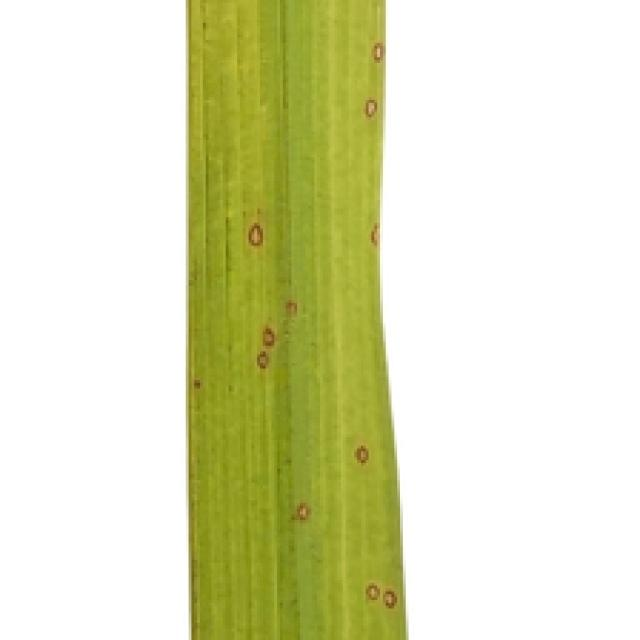Rice___Brown_Spot: (185, 0, 408, 637)
